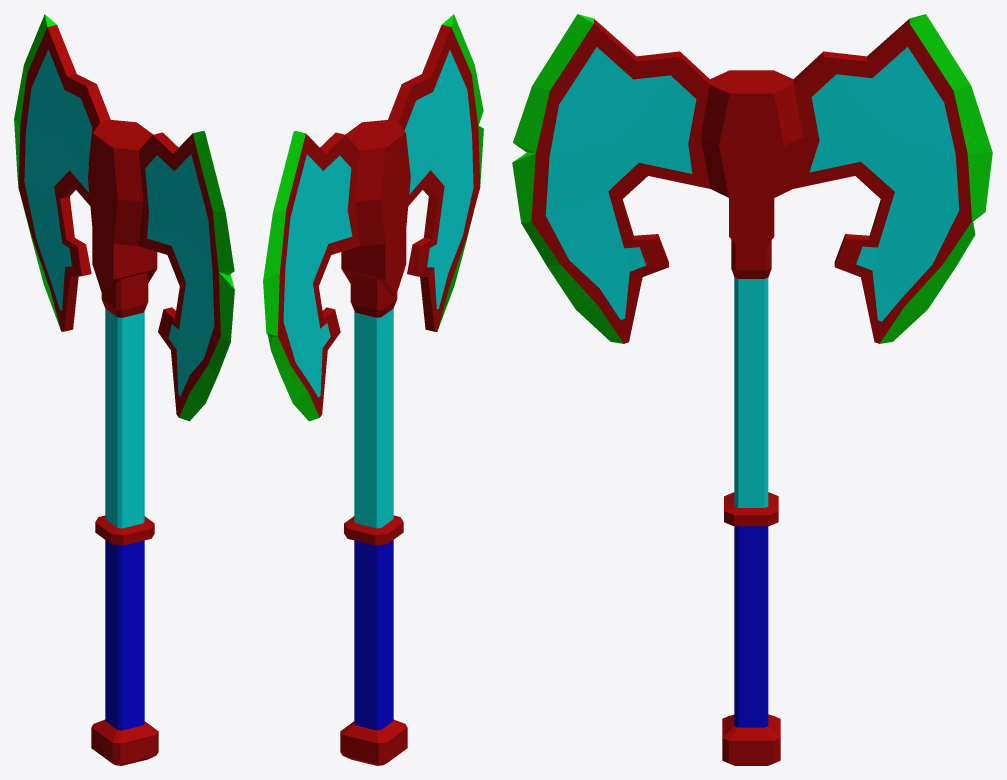
File: Greataxe_Legendary_Ornate.fbx
3 views of the same model, side by side, from view 1: azimuth 30°, elevation 25°; view 2: azimuth 150°, elevation 25°; view 3: azimuth 270°, elevation 25° (orthographic). The views are drawn at different scales.
Parts seen in each view (by area): view 1: SM_Wep_Axe_01; view 2: SM_Wep_Axe_01; view 3: SM_Wep_Axe_01.
Boxes of the visible parts, box(x1,y1,x2,y2) form: SM_Wep_Axe_01: box(14, 14, 234, 765); SM_Wep_Axe_01: box(263, 14, 483, 765); SM_Wep_Axe_01: box(512, 14, 992, 765).
Size of the model in its own units: 0.0693 by 0.9773 by 0.5728.
